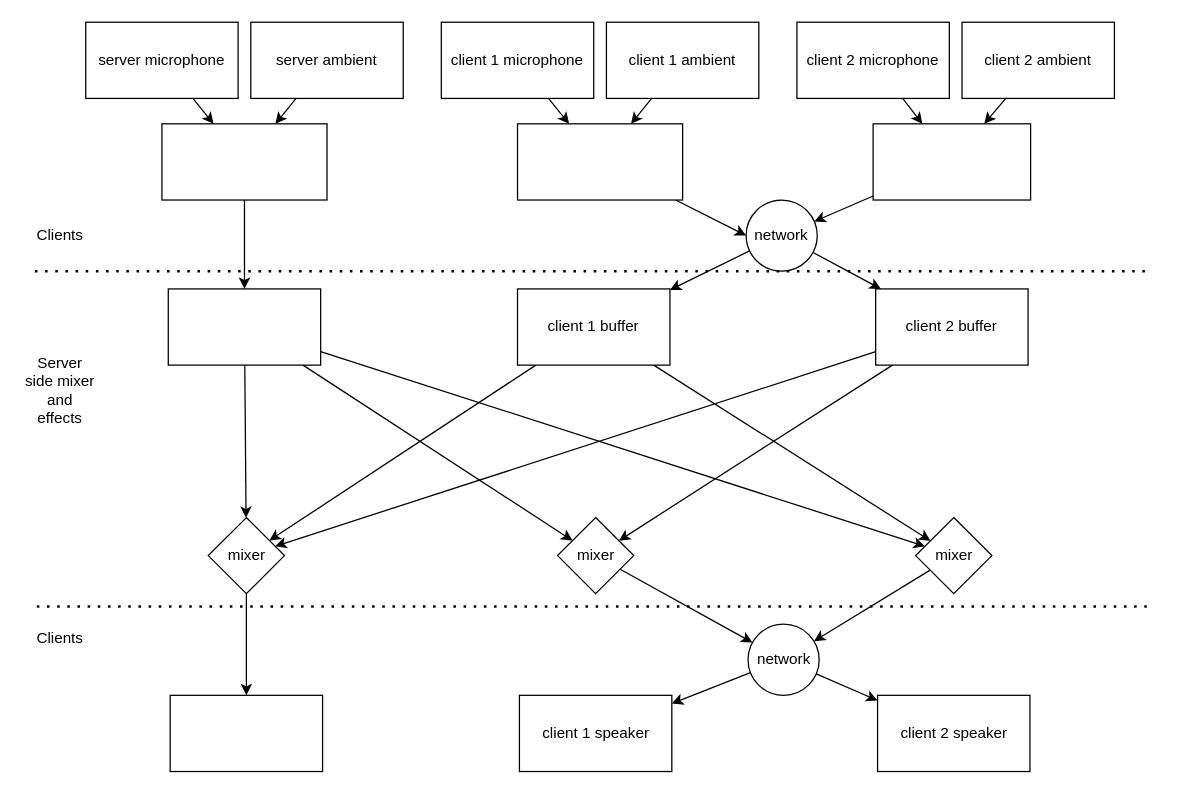
The diagram is 1179 pixels wide and 794 high, and some of its shapes have lost their labels. The centre of each missing label's shape, as x and y in pixels:
"client 1 local buffer" goes at (x=599, y=161).
"client 2 local buffer" goes at (x=951, y=161).
"server buffer" goes at (x=244, y=326).
"server local buffer" goes at (x=244, y=161).
"server speaker" goes at (x=246, y=733).
